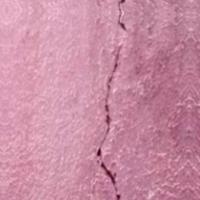crack: (88, 0, 132, 199)
